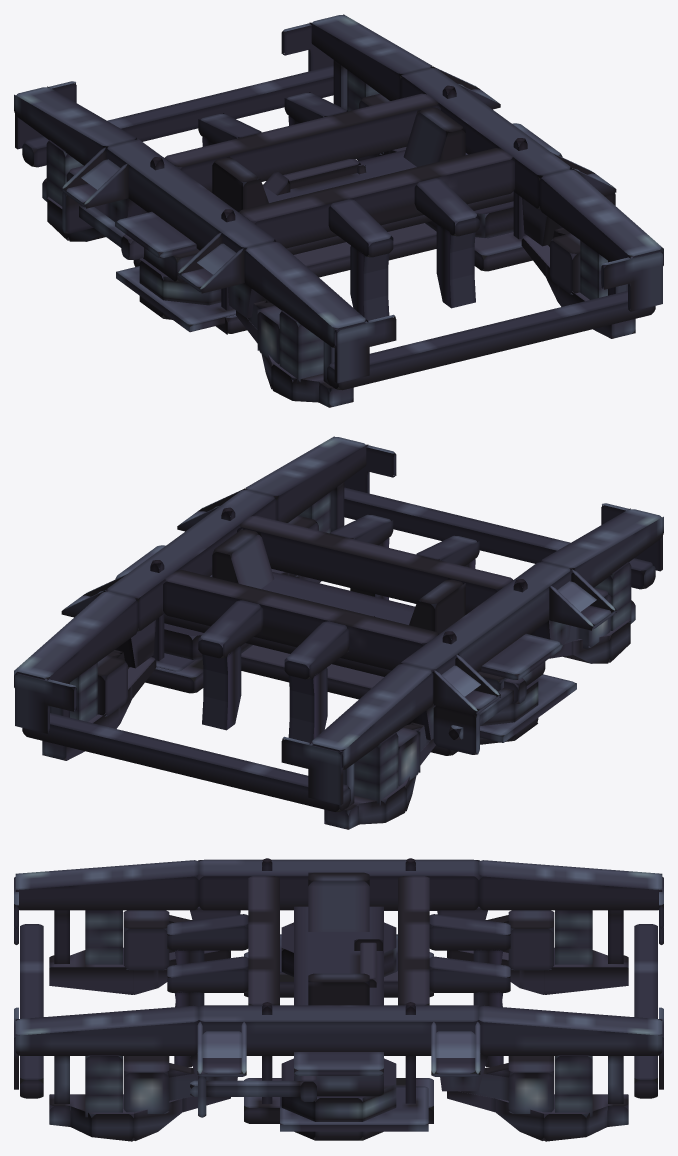
The model's file is bogey_cw2_temple.obj.
3 renders of one model, top to bottom at view 1: azimuth 30°, elevation 25°; view 2: azimuth 150°, elevation 25°; view 3: azimuth 270°, elevation 25°, orthographic.
Parts seen in each view (by area): view 1: 架体; view 2: 架体; view 3: 架体.
Part boxes in pixels (<box>): 架体: <box>14,14,663,407</box>; 架体: <box>14,436,663,829</box>; 架体: <box>14,858,663,1141</box>.
Size of the model in its own units: 2.94 by 0.8813 by 3.96.
